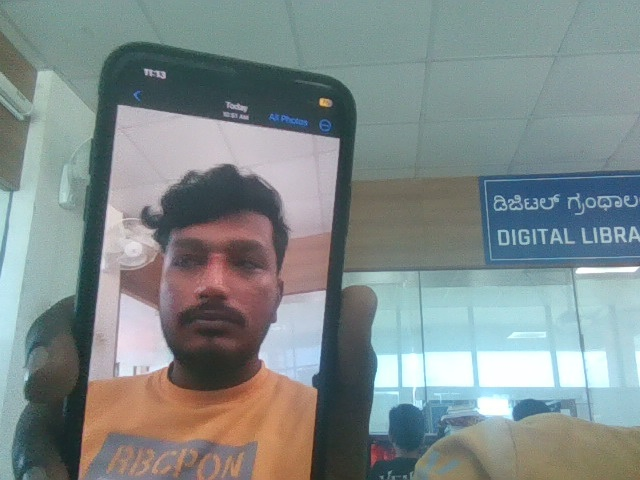fake: (131, 137, 306, 385)
